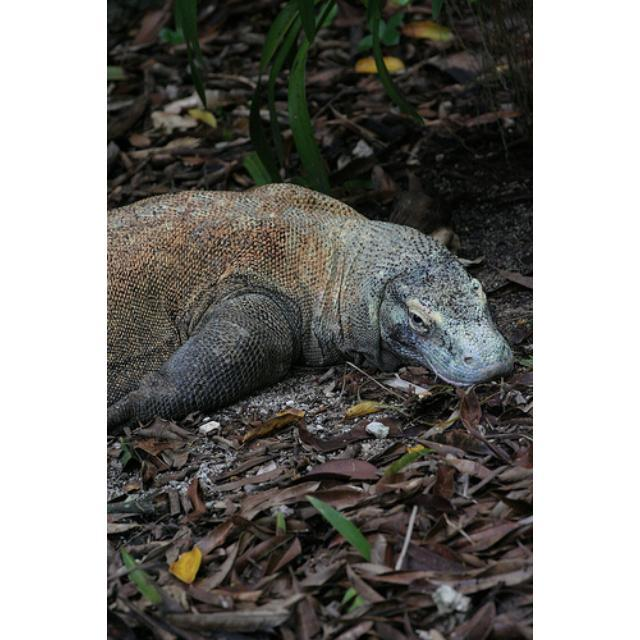KomodoDragon: (107, 186, 511, 434)
